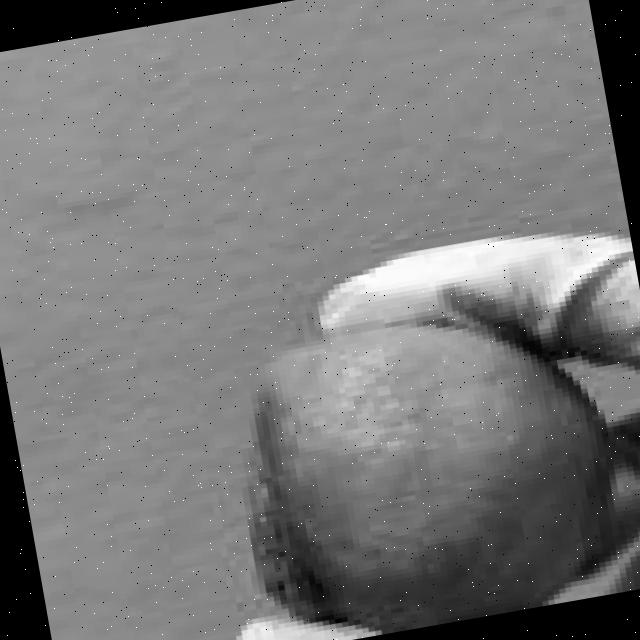Bad_Orange-0-1 day: (258, 315, 613, 636)
